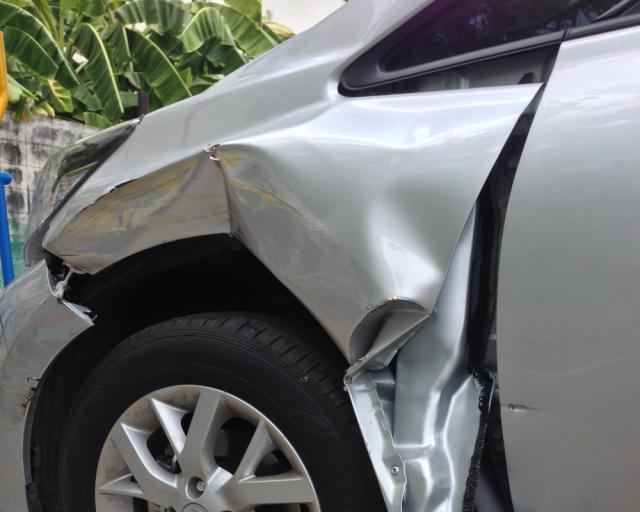dent: (42, 139, 308, 276), (307, 89, 531, 146), (369, 184, 458, 298)
scratch: (286, 203, 374, 311)
